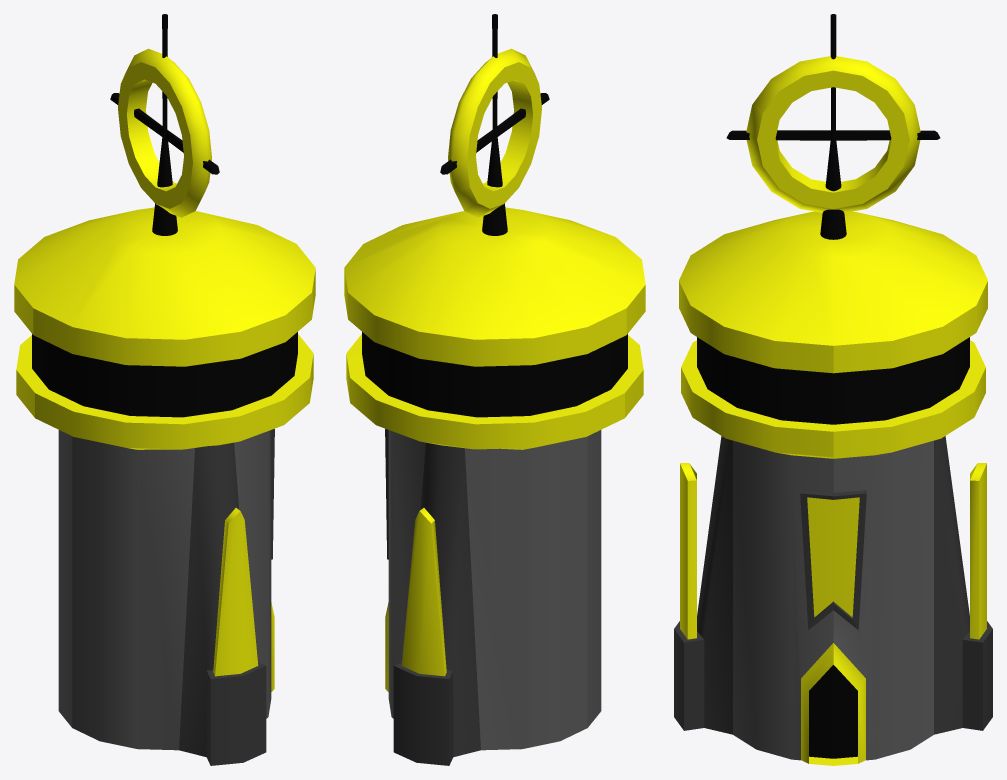
File: Archer Tower.fbx
3 views of the same model, side by side, from view 1: azimuth 30°, elevation 25°; view 2: azimuth 150°, elevation 25°; view 3: azimuth 270°, elevation 25° (orthographic).
Parts seen in each view (by area): view 1: Cylinder.006; view 2: Cylinder.006; view 3: Cylinder.006.
Boxes of the visible parts, x1,y1,x2,y2 form: Cylinder.006: (14, 14, 315, 765); Cylinder.006: (344, 14, 645, 765); Cylinder.006: (674, 14, 992, 765).
Bounding box in the file's own units: 483 × 1209 × 498.
